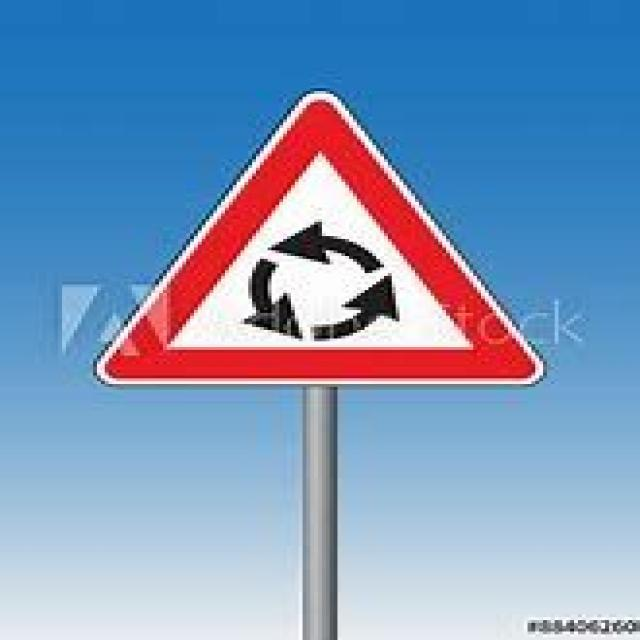roundabout: (96, 89, 544, 384)
